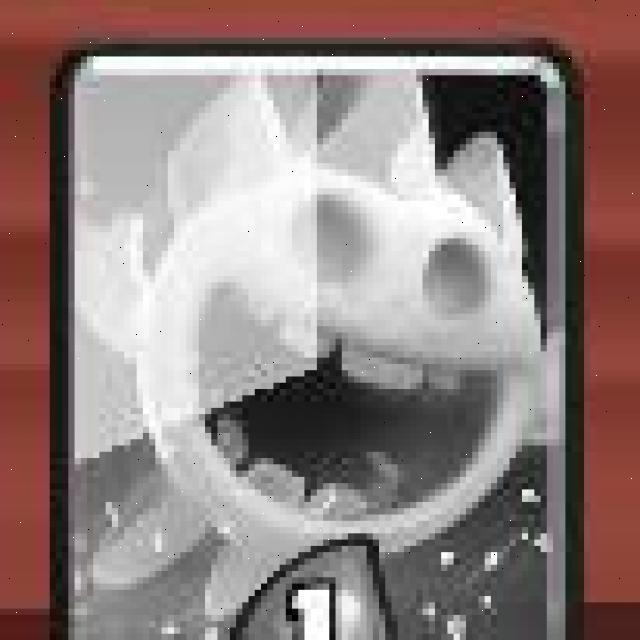Ice_Spirit: (56, 44, 584, 640)
